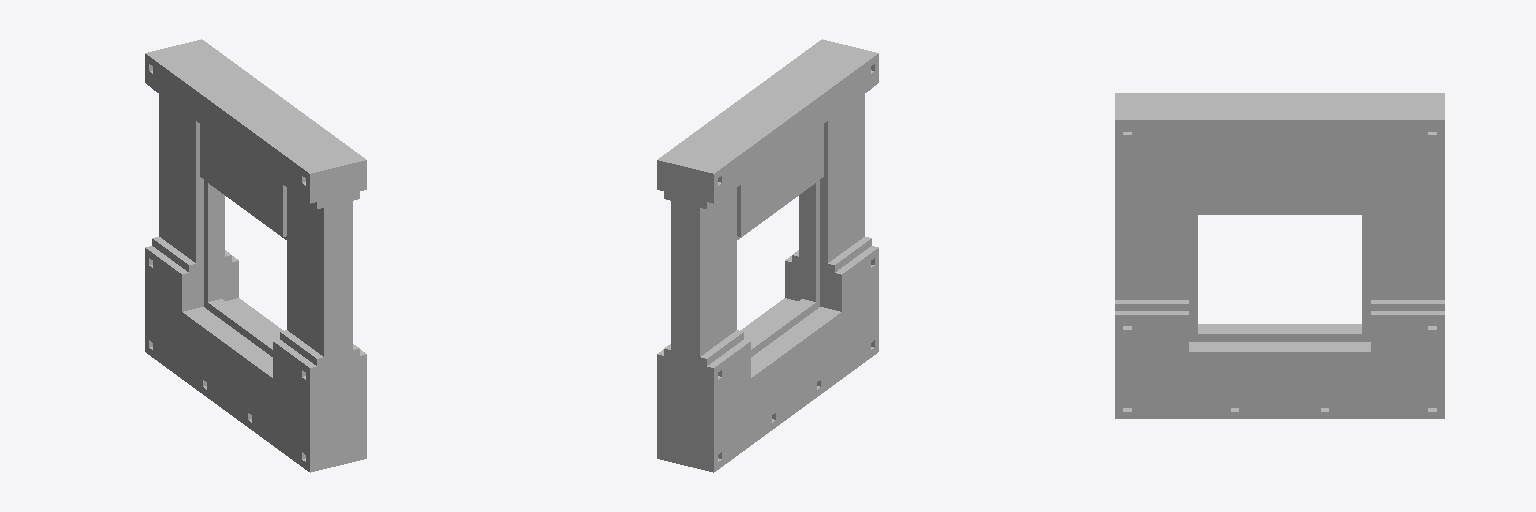
Rendered from wall window.obj.
3 renders of one model, left to right at view 1: azimuth 30°, elevation 25°; view 2: azimuth 150°, elevation 25°; view 3: azimuth 270°, elevation 25°, orthographic.
Parts seen in each view (by area): view 1: wall window; view 2: wall window; view 3: wall window.
Boxes of the visible parts, x1=… form: wall window: x1=145, y1=39, x2=366, y2=472; wall window: x1=657, y1=39, x2=878, y2=472; wall window: x1=1115, y1=93, x2=1444, y2=418.
Size of the model in its own units: 8 by 40 by 40.